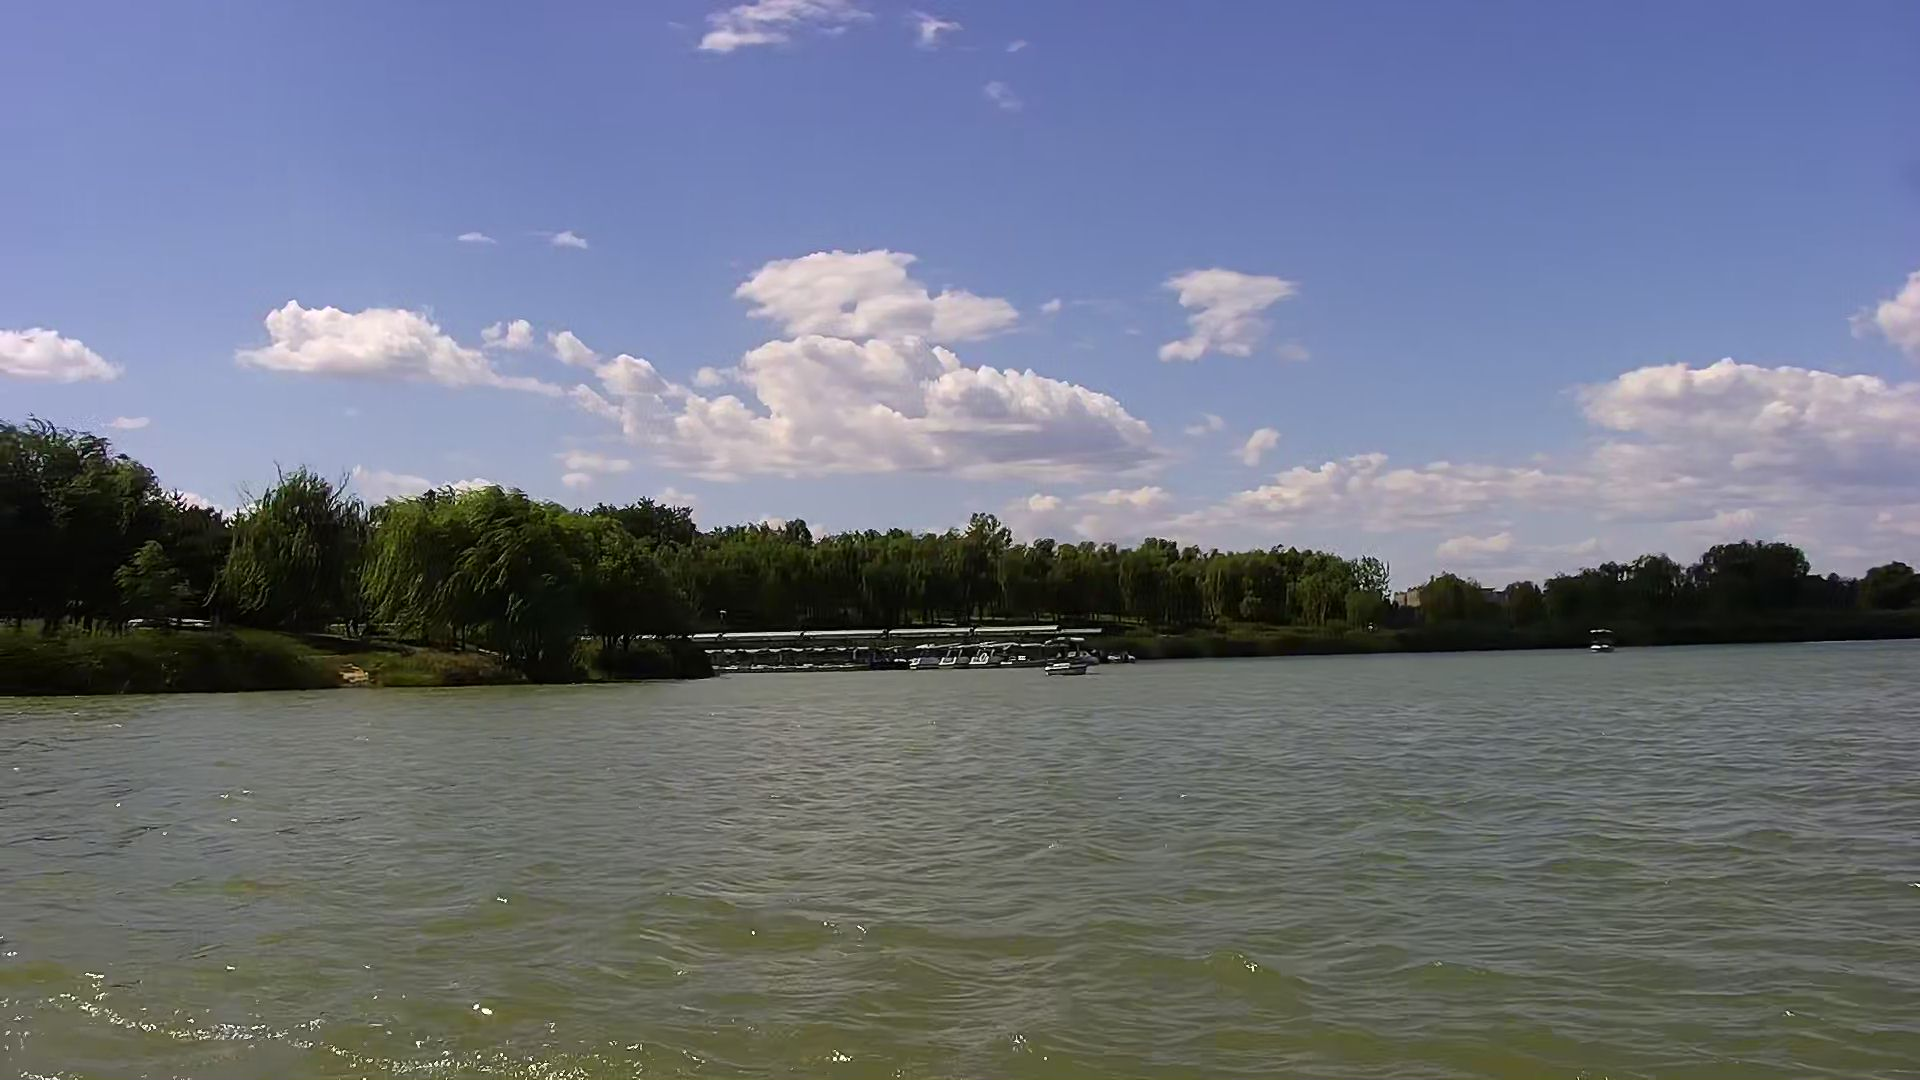boat: (1013, 638, 1042, 673), (975, 641, 1001, 670), (907, 644, 934, 671), (940, 644, 967, 669), (1048, 657, 1089, 673), (1588, 626, 1610, 653)
harbor: (715, 626, 1134, 665)
